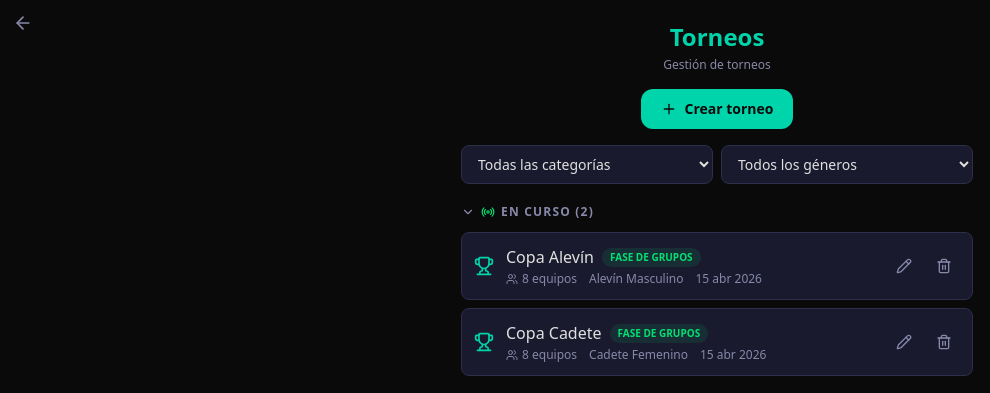
Scenario: AdminTorneosPage › filters tournaments by category dropdown
The width and height of the screenshot is (990, 393).
Expected: the text "Copa Alevín" is shown, [506,245,594,269]
Select "Alevín" in the 1st dropdown showing "Todas las categorías" at [587, 164], box [461,145,713,184]
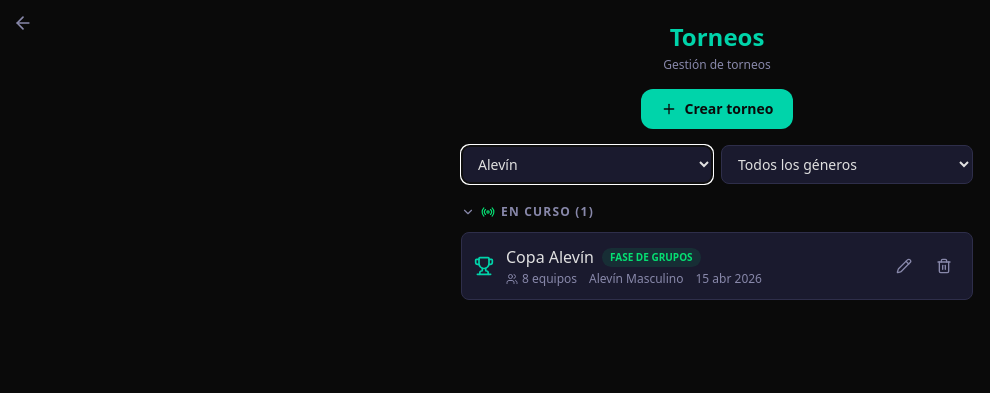
Expected: the text "Copa Alevín" is shown, [506,245,594,269]
Expected: the link "Copa Cadete" is gone
